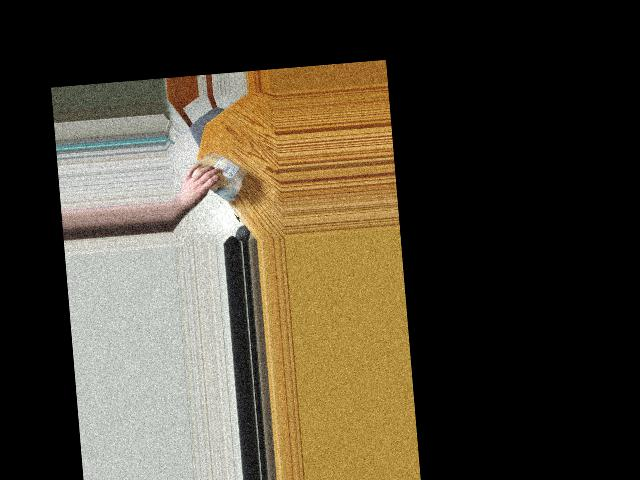cheese: (186, 147, 249, 198)
